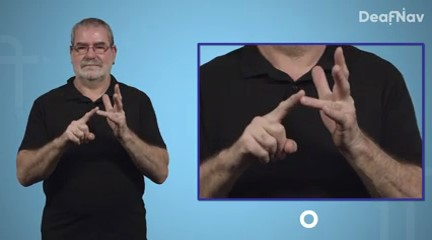O: (229, 45, 364, 167), (61, 82, 132, 147)
